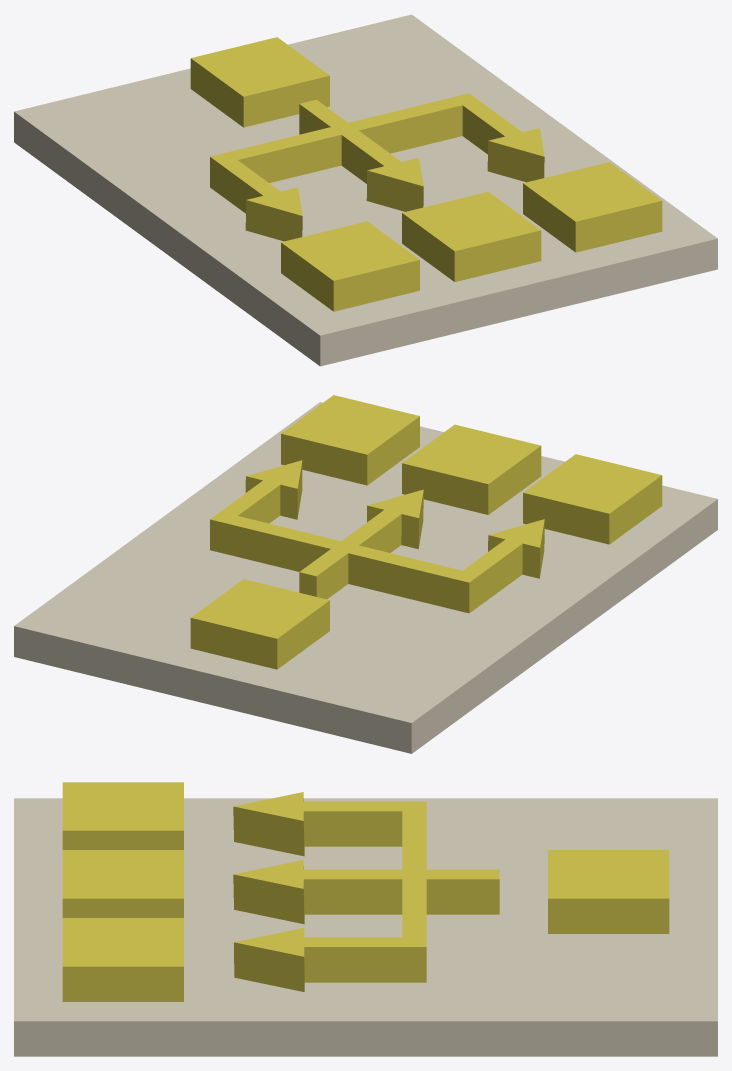
File: LoadBalancermodel.glb
The picture shows the model from 3 angles, top to bottom: view 1: azimuth 30°, elevation 25°; view 2: azimuth 150°, elevation 25°; view 3: azimuth 270°, elevation 25°; orthographic projection. The views are drawn at different scales.
Parts seen in each view (by area): view 1: Mesh_Mesh_head_geo.001_lambert2SG.001; view 2: Mesh_Mesh_head_geo.001_lambert2SG.001; view 3: Mesh_Mesh_head_geo.001_lambert2SG.001.
Part boxes in pixels (left/top/right/bottom): Mesh_Mesh_head_geo.001_lambert2SG.001: left=14, top=14, right=717, bottom=366; Mesh_Mesh_head_geo.001_lambert2SG.001: left=14, top=395, right=717, bottom=753; Mesh_Mesh_head_geo.001_lambert2SG.001: left=14, top=782, right=717, bottom=1056.
Bounding box in the file's own units: 27 × 4 × 36.
